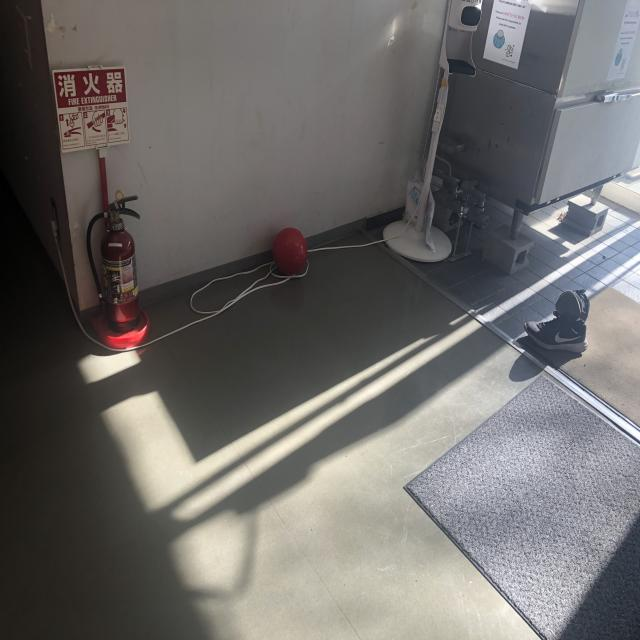red_ball: (274, 227, 304, 270)
